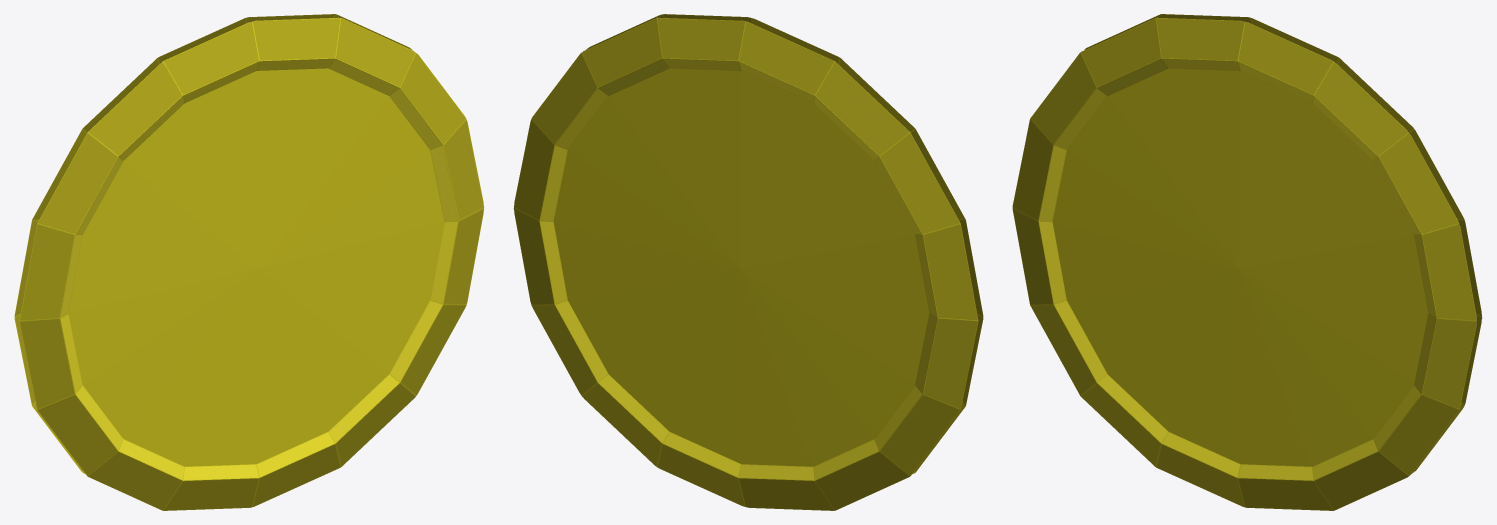
Rendered from Coin.fbx.
3 renders of one model, left to right at view 1: azimuth 30°, elevation 25°; view 2: azimuth 150°, elevation 25°; view 3: azimuth 330°, elevation 25°, orthographic.
Visible parts, largest first — view 1: Coin; view 2: Coin; view 3: Coin.
Part boxes in pixels (x1=…): Coin: x1=14, y1=14, x2=484, y2=510; Coin: x1=513, y1=14, x2=983, y2=510; Coin: x1=1012, y1=14, x2=1482, y2=510.
Bounding box in the file's own units: 26.68 × 26.68 × 1.96.
